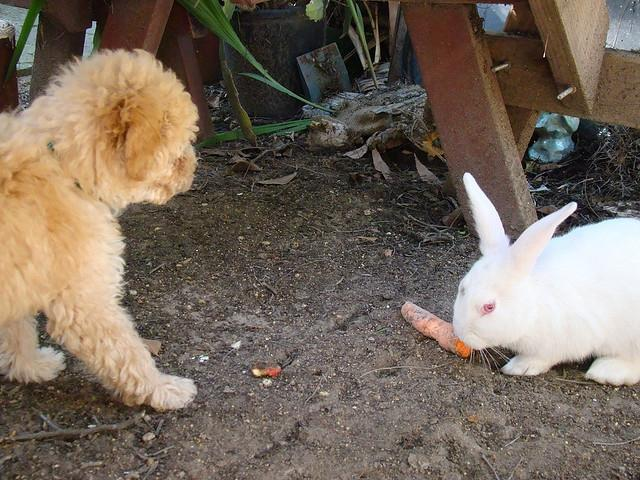carrot: (400, 300, 472, 356)
